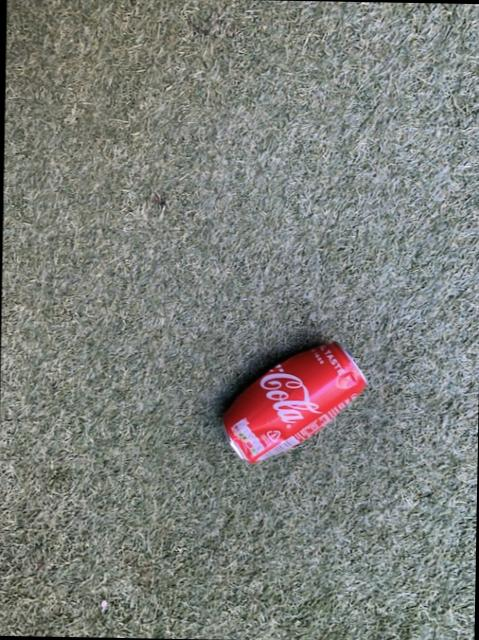metal: (221, 341, 363, 461)
